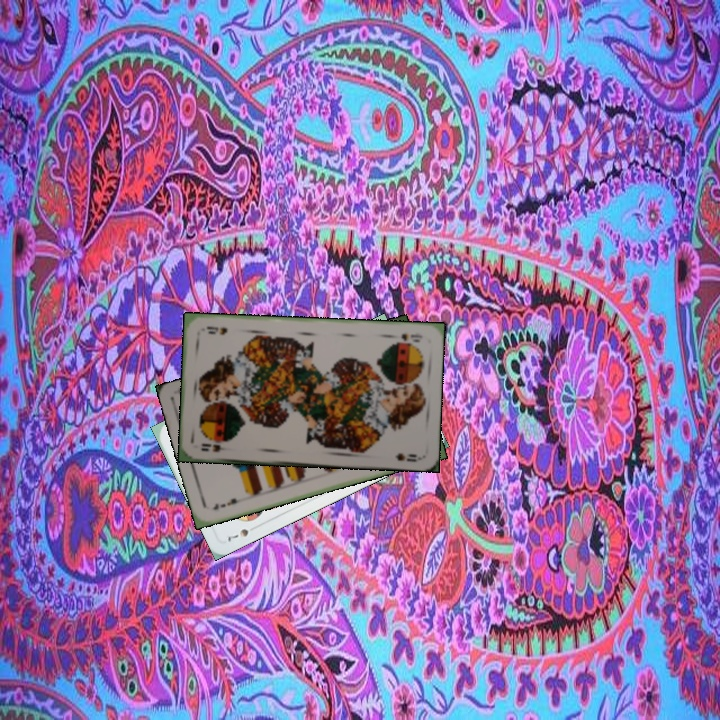E7: (209, 494, 246, 512)
S7: (223, 521, 261, 544)
SO: (387, 329, 425, 345), (197, 439, 234, 454)
